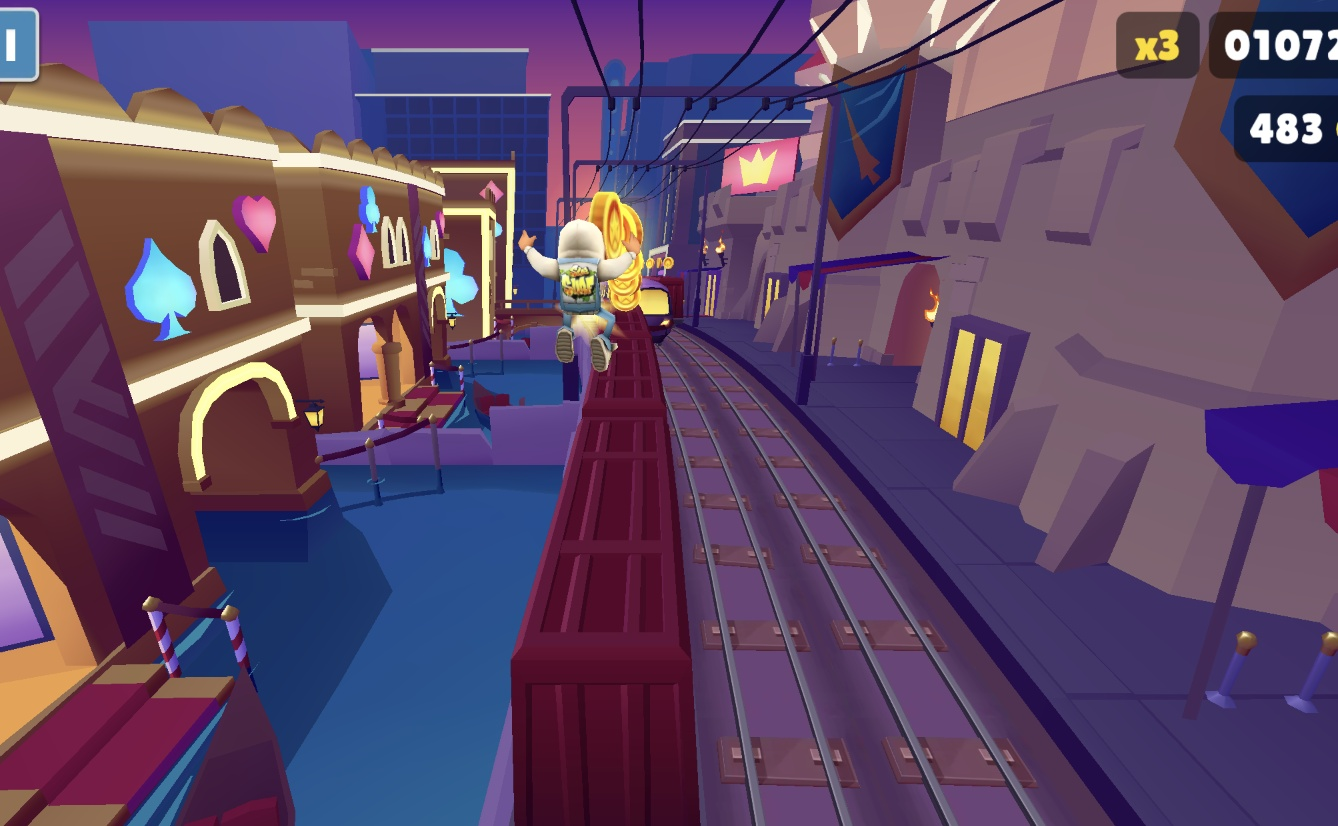train: (504, 292, 751, 826), (634, 272, 676, 332)
